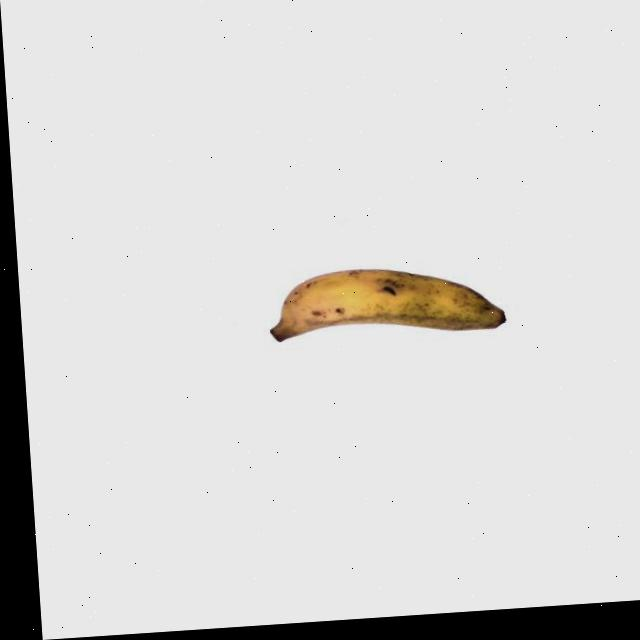banana: (262, 257, 511, 348)
